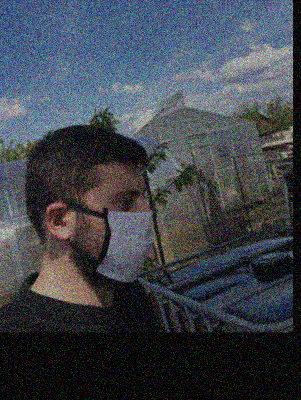with_mask: (93, 183, 154, 287)
